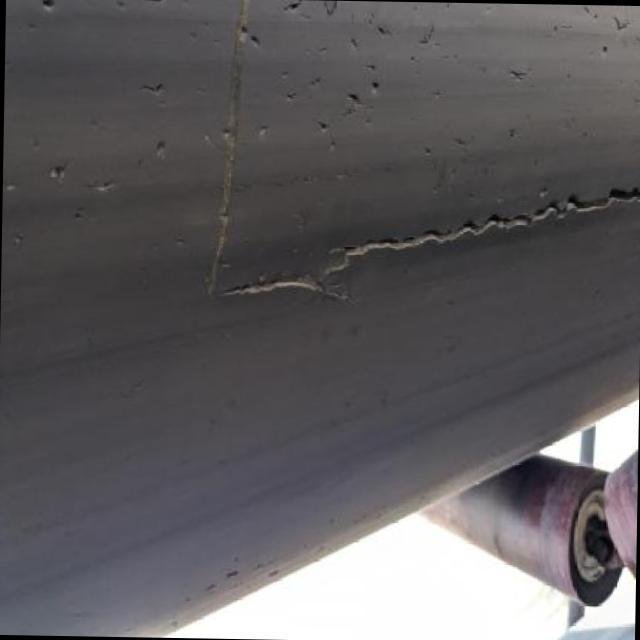Puncture: (44, 163, 75, 183), (216, 122, 236, 142), (528, 182, 556, 196), (150, 141, 173, 158), (366, 81, 390, 94), (31, 0, 60, 10), (233, 23, 252, 38), (600, 35, 609, 57), (247, 34, 263, 46)
Tear: (214, 177, 640, 304), (204, 0, 256, 304), (134, 75, 170, 98), (499, 64, 540, 83), (608, 10, 632, 39), (277, 0, 316, 9)
